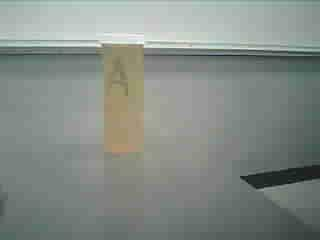Bottle A: (91, 28, 156, 162)
